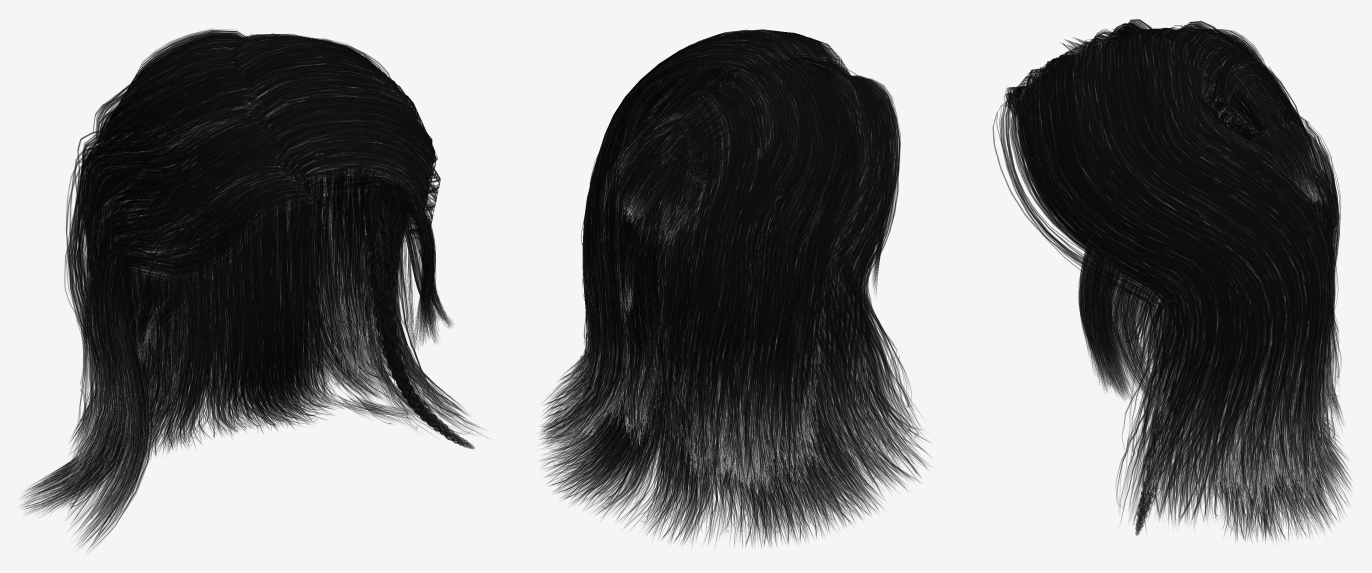
The model's file is long-black-hair.glb.
The picture shows the model from 3 angles, left to right: view 1: azimuth 30°, elevation 25°; view 2: azimuth 150°, elevation 25°; view 3: azimuth 270°, elevation 25°; orthographic projection. The views are drawn at different scales.
Visible parts, largest first — view 1: Object_3, Object_4, Object_2; view 2: Object_3, Object_4, Object_2; view 3: Object_4, Object_3, Object_2.
Boxes of the visible parts, bbox=[...] form: Object_3: bbox=[22, 29, 408, 550]; Object_4: bbox=[222, 33, 487, 437]; Object_2: bbox=[283, 143, 474, 448]; Object_3: bbox=[540, 53, 930, 547]; Object_4: bbox=[542, 29, 849, 451]; Object_2: bbox=[674, 67, 735, 115]; Object_4: bbox=[992, 33, 1341, 529]; Object_3: bbox=[1004, 19, 1350, 541]; Object_2: bbox=[1024, 82, 1185, 535].
Size of the model in its own units: 27.26 by 31.03 by 22.15.
Materials: 1 (1 with a texture image).
